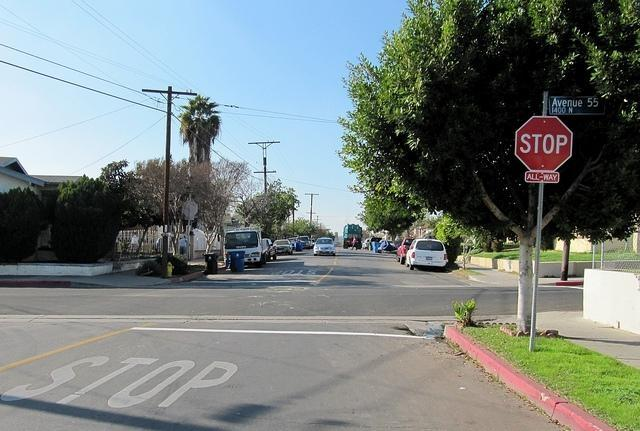car: (406, 238, 446, 270), (396, 236, 415, 264), (313, 238, 337, 256), (274, 240, 292, 255), (266, 240, 277, 262), (298, 236, 310, 249), (287, 239, 300, 250), (362, 238, 369, 250), (310, 239, 316, 249)
truck: (223, 226, 270, 268)
